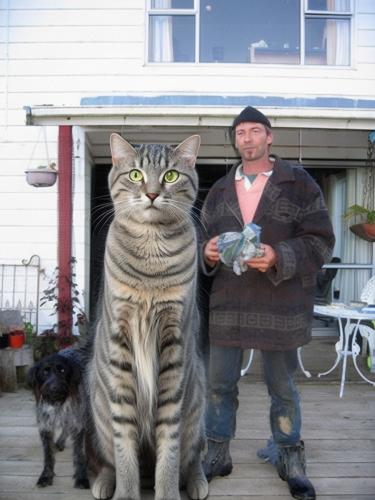cat: (84, 132, 209, 499)
dog: (30, 351, 113, 491)
person: (183, 105, 336, 498)
person/foot: (179, 458, 233, 489), (277, 458, 316, 500)
person/hand: (245, 243, 278, 273), (204, 237, 221, 261)
person/head: (234, 106, 274, 160)
